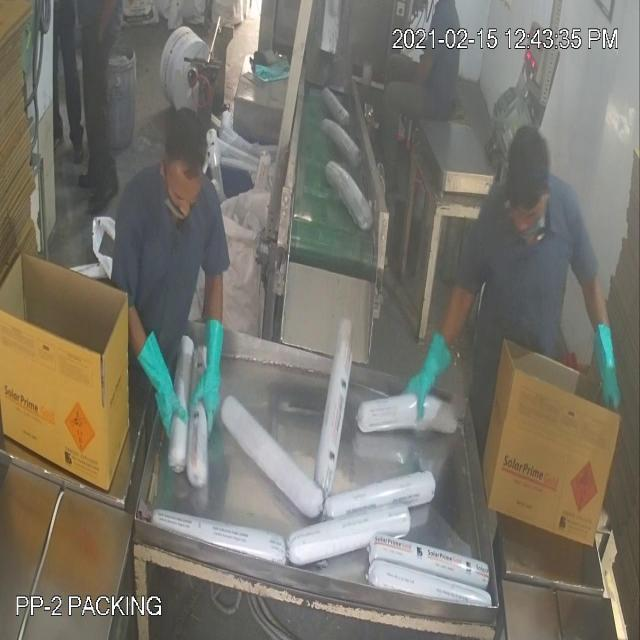gloves: (403, 312, 467, 440), (131, 318, 186, 446), (185, 305, 230, 452), (586, 311, 632, 441), (388, 51, 448, 94)
